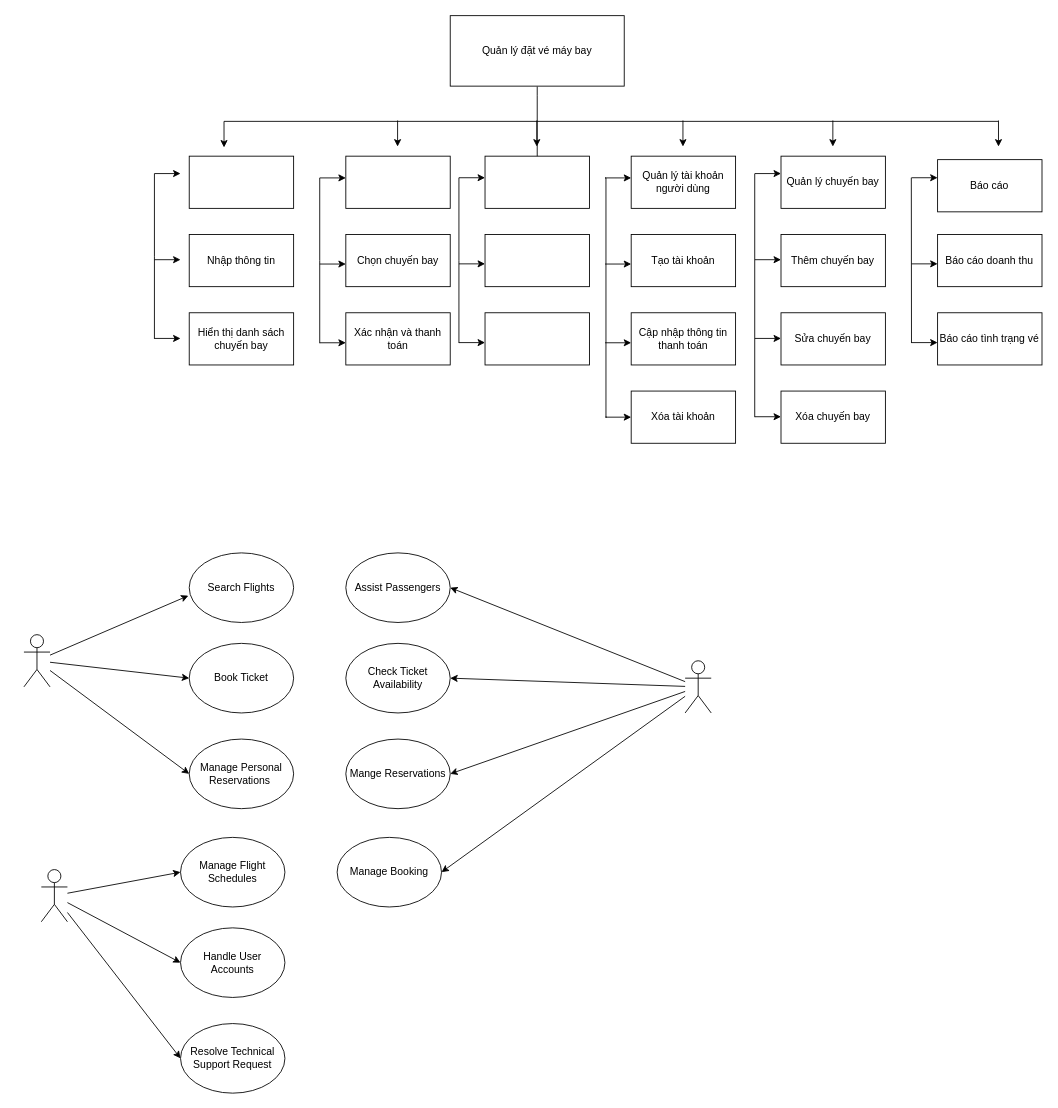
Image size: 1058x1108. Some labels were removed from this diagram. The shapes that lost their labels are listed below. From the top down, each one's centre as x and y in pixels, then its label:
At (x=241, y=181): "Tìm chuyến bay".
At (x=397, y=181): "Đặt vé".
At (x=536, y=181): "Quản lý đặt chỗ".
At (x=536, y=260): "Tra cứu đặt chỗ".
At (x=536, y=338): "Hủy/ thay đổi".
At (x=36, y=660): "Pasenger".
At (x=697, y=686): "Agent".
At (x=53, y=895): "Administrator".
